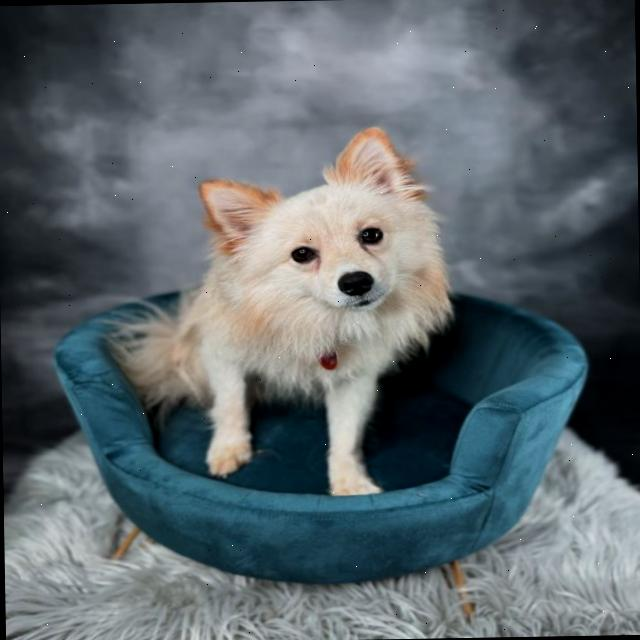pomeranian_dog: (181, 115, 458, 361)
